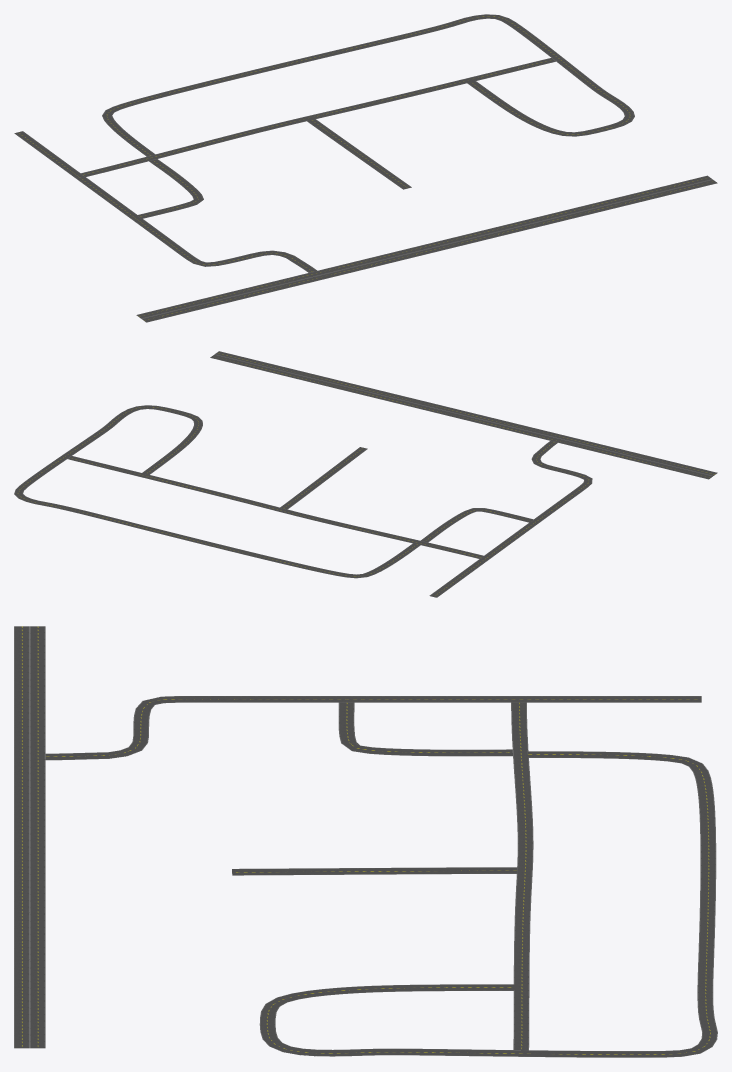
Rendered from jalan gemastikroman.fbx_Scene_Scene_Collection.fbx.
3 views of the same model, one above another, from view 1: azimuth 30°, elevation 25°; view 2: azimuth 150°, elevation 25°; view 3: azimuth 270°, elevation 25° (orthographic). The views are drawn at different scales.
Visible parts, largest first — view 1: Plane.005, Plane, Plane.006, Plane.003, Plane.001, Plane.004, Plane.002; view 2: Plane.005, Plane.006, Plane, Plane.003, Plane.001, Plane.004, Plane.002; view 3: Plane.005, Plane, Plane.006, Plane.003, Plane.001, Plane.004, Plane.002.
Boxes of the visible parts, x1,y1,x2,y2 form: Plane.005: (102,14,634,156); Plane: (136,175,712,318); Plane.006: (141,179,717,322); Plane.003: (81,58,555,176); Plane.001: (14,131,317,272); Plane.004: (307,119,411,189); Plane.002: (138,159,203,218); Plane.005: (14,405,420,578); Plane.006: (215,351,717,475); Plane: (210,354,712,479); Plane.003: (68,456,483,558); Plane.001: (429,441,592,597); Plane.004: (280,447,367,509); Plane.002: (420,508,533,542); Plane.005: (259,751,717,1057); Plane: (29,626,45,1048); Plane.006: (14,626,29,1048); Plane.003: (511,702,533,1050); Plane.001: (45,696,701,760); Plane.004: (232,867,517,875); Plane.002: (338,702,512,756).
Size of the model in its own units: 12899 by 5.18 by 8883.
